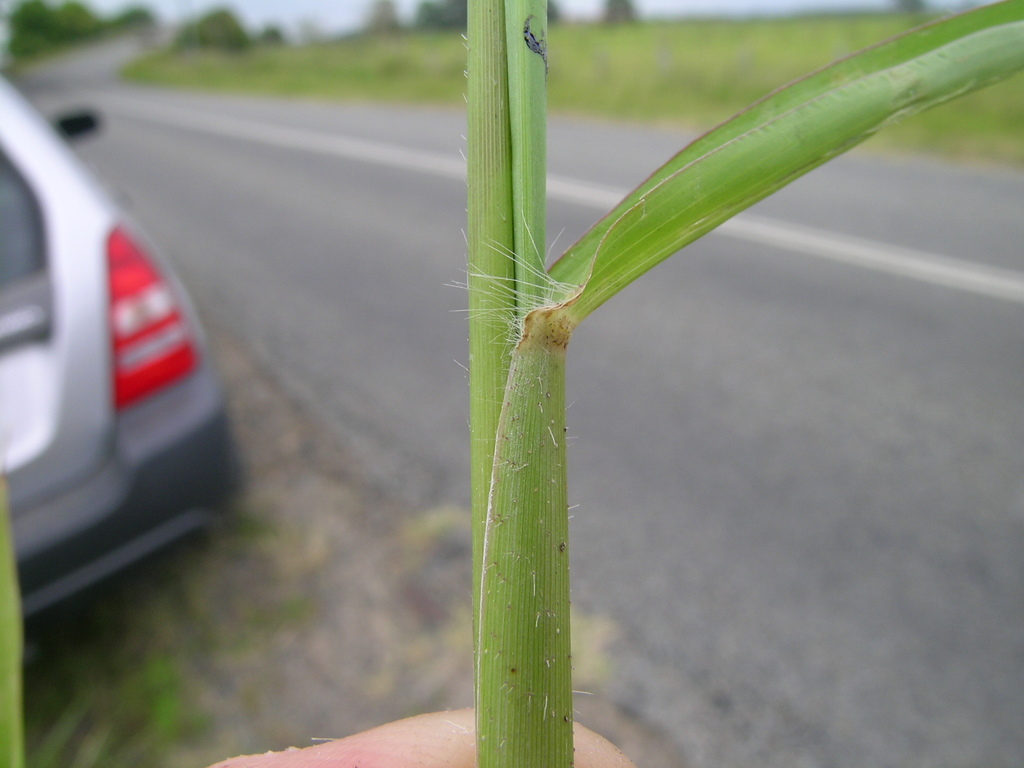Car: (1, 124, 250, 677)
